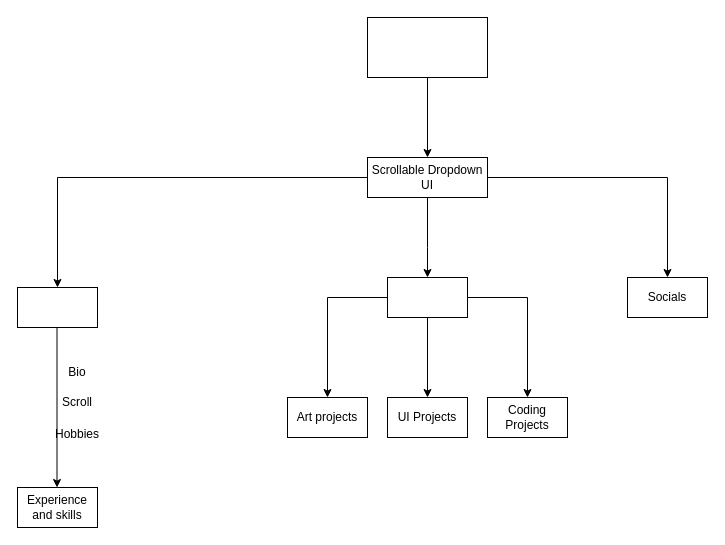
Image size: 725x545. Some labels were removed from this diagram. The centre of each missing label's shape, as x and y in pixels:
"About Me" belongs at point (57, 307).
"Home" belongs at point (427, 47).
"Portfolio" belongs at point (427, 297).
